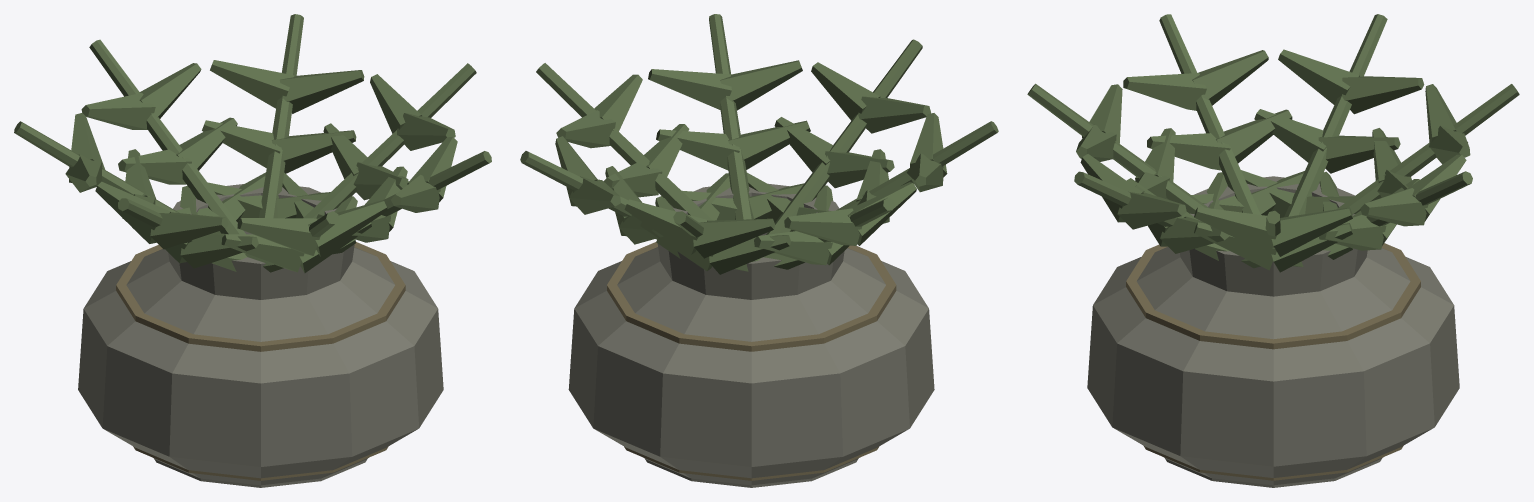
Rendered from fern-planter.glb.
3 renders of one model, left to right at view 1: azimuth 30°, elevation 25°; view 2: azimuth 150°, elevation 25°; view 3: azimuth 270°, elevation 25°, orthographic.
Parts seen in each view (by area): view 1: fern-planter__body; view 2: fern-planter__body; view 3: fern-planter__body.
Part boxes in pixels (x1,y1,x2,y2): fern-planter__body: [14, 14, 491, 487]; fern-planter__body: [520, 14, 998, 487]; fern-planter__body: [1027, 14, 1519, 487].
Size of the model in its own units: 0.6194 by 0.4673 by 0.6345.
